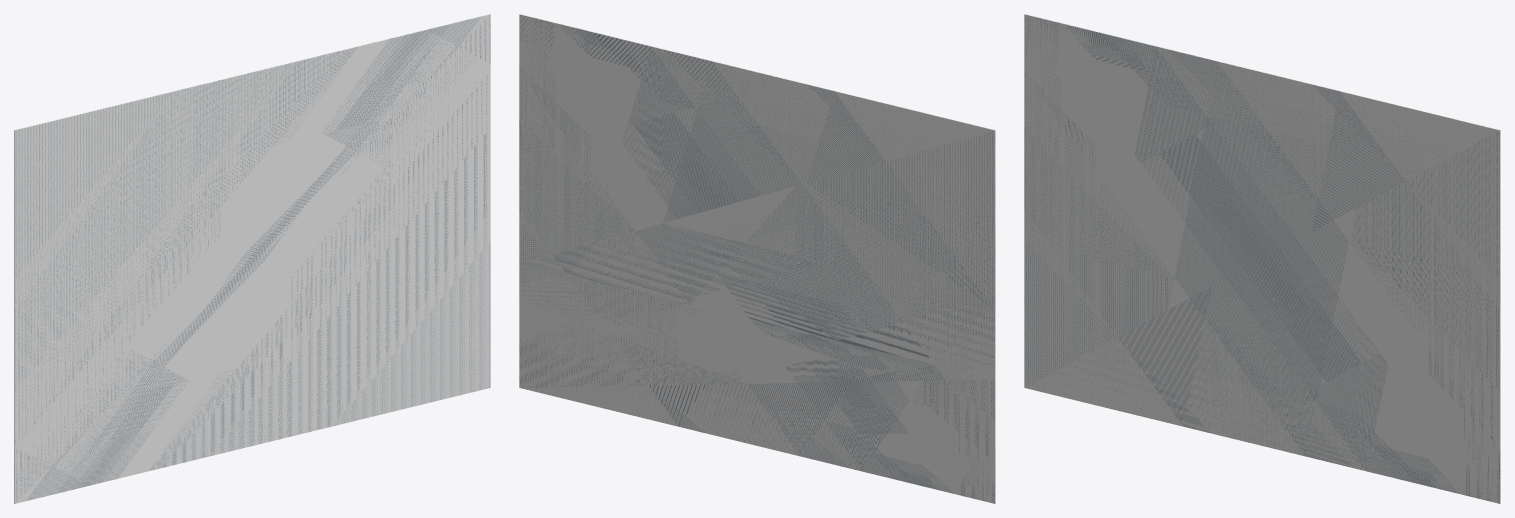
3 renders of one model, left to right at view 1: azimuth 30°, elevation 25°; view 2: azimuth 150°, elevation 25°; view 3: azimuth 330°, elevation 25°, orthographic.
Parts seen in each view (by area): view 1: group_0; view 2: group_0; view 3: group_0.
Boxes of the visible parts, x1=… form: group_0: x1=14, y1=14, x2=490, y2=503; group_0: x1=519, y1=14, x2=995, y2=503; group_0: x1=1024, y1=14, x2=1500, y2=503.
Bounding box in the file's own units: 23.62 × 0.0472 × 17.72.
